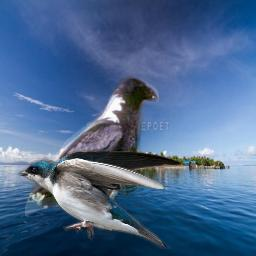Crow: (25, 72, 159, 222)
Swallow: (18, 148, 183, 249)
